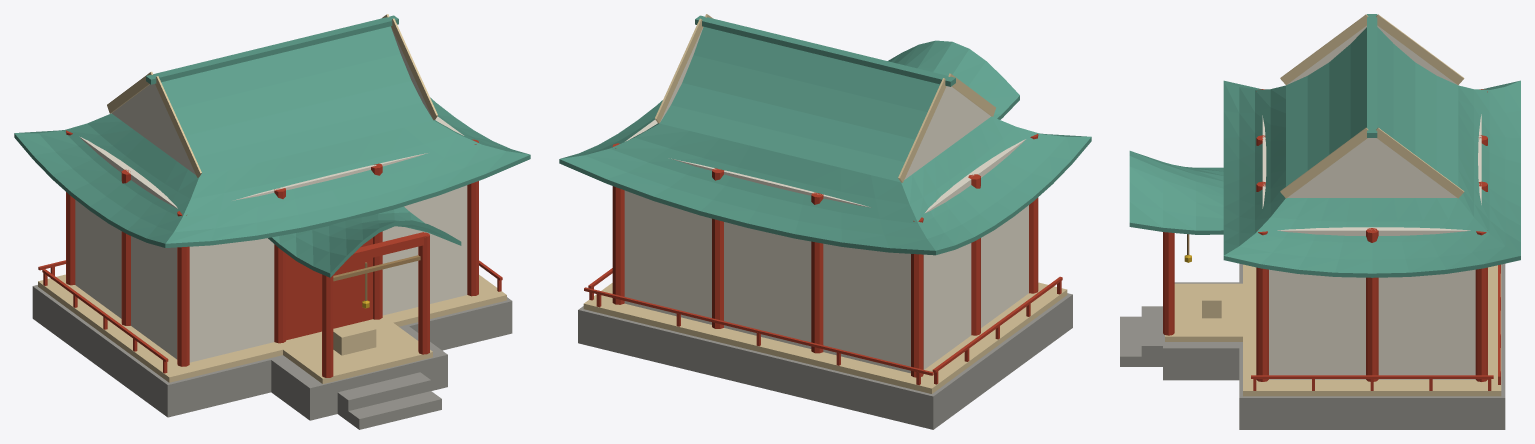
File: haiden.glb
3 renders of one model, left to right at view 1: azimuth 30°, elevation 25°; view 2: azimuth 150°, elevation 25°; view 3: azimuth 270°, elevation 25°, orthographic. The views are drawn at different scales.
Parts seen in each view (by area): view 1: haiden; view 2: haiden; view 3: haiden.
Boxes of the visible parts, <box> form: haiden: <box>14,14,530,429</box>; haiden: <box>559,14,1091,429</box>; haiden: <box>1120,14,1520,429</box>.
Bounding box in the file's own units: 10.6 × 7.79 × 10.25.
